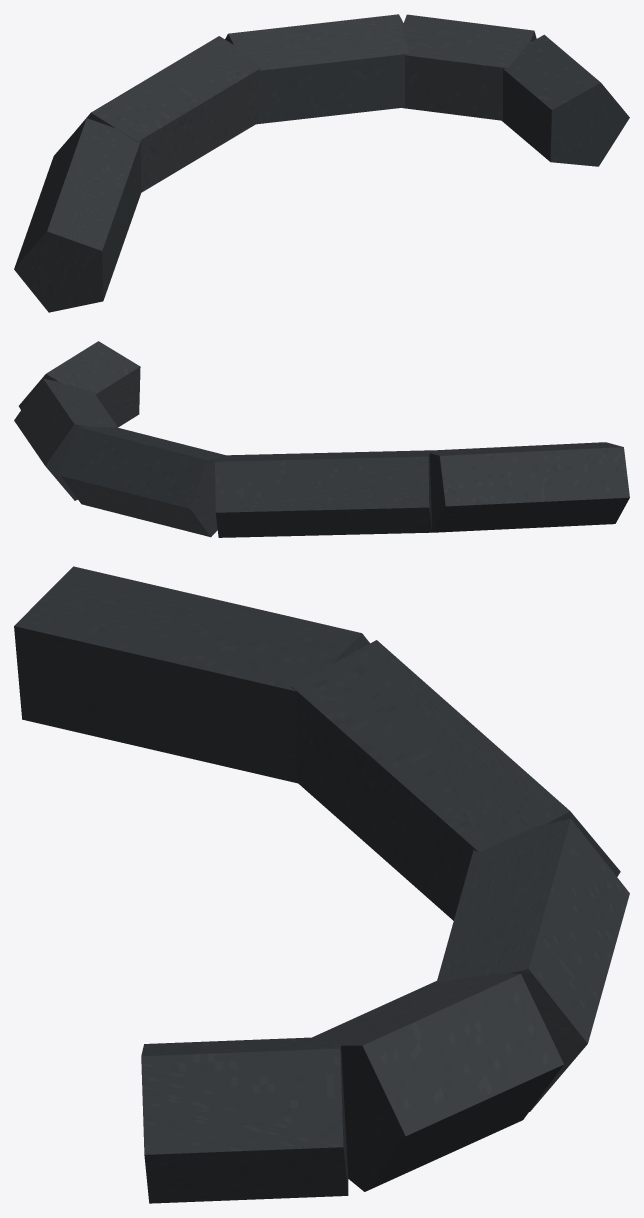
Rendered from leather_cat_tail.glb.
The picture shows the model from 3 angles, top to bottom: view 1: azimuth 30°, elevation 25°; view 2: azimuth 150°, elevation 25°; view 3: azimuth 270°, elevation 25°; orthographic projection. The views are drawn at different scales.
Parts seen in each view (by area): view 1: block_curled costume tail 0, block_curled costume tail 2, block_curled costume tail 1, block_curled costume tail 4, block_curled costume tail 3; view 2: block_curled costume tail 1, block_curled costume tail 0, block_curled costume tail 2, block_curled costume tail 3, block_curled costume tail 4; view 3: block_curled costume tail 0, block_curled costume tail 1, block_curled costume tail 3, block_curled costume tail 4, block_curled costume tail 2.
Part boxes in pixels (box(x1,y1,x2,y2)): block_curled costume tail 0: box(14, 118, 140, 312); block_curled costume tail 2: box(225, 14, 409, 124); block_curled costume tail 1: box(77, 36, 262, 192); block_curled costume tail 4: box(502, 34, 629, 166); block_curled costume tail 3: box(402, 14, 536, 120); block_curled costume tail 1: box(215, 450, 431, 537); block_curled costume tail 0: box(430, 442, 629, 532); block_curled costume tail 2: box(61, 426, 225, 537); block_curled costume tail 3: box(14, 378, 117, 500); block_curled costume tail 4: box(19, 341, 140, 427); block_curled costume tail 0: box(14, 566, 369, 783); block_curled costume tail 1: box(291, 640, 620, 920); block_curled costume tail 3: box(310, 973, 563, 1191); block_curled costume tail 4: box(141, 1037, 348, 1203); block_curled costume tail 2: box(437, 818, 629, 1111).
Size of the model in its own units: 0.1751 by 0.0303 by 0.0872.
Materials: 1 (1 with a texture image).
